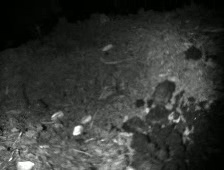corn: (48, 109, 66, 121), (14, 160, 35, 170), (71, 123, 86, 137), (79, 113, 93, 125), (100, 42, 114, 52)
